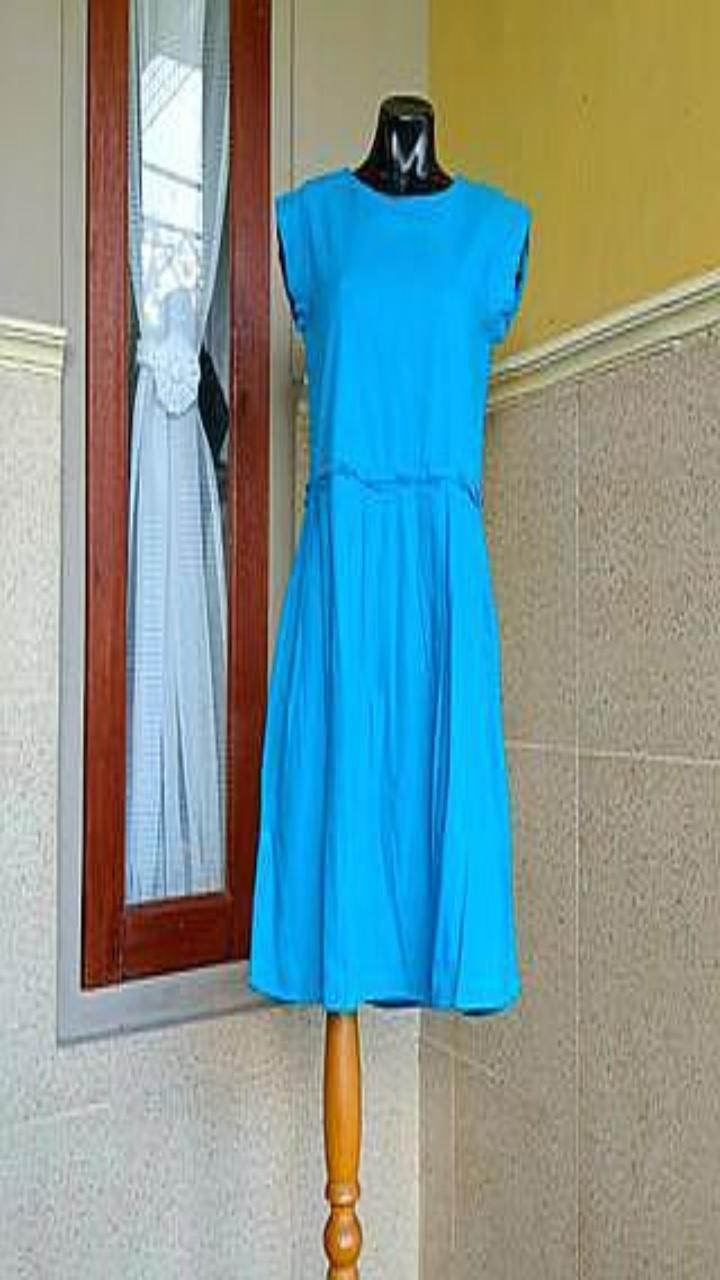Dresses: (249, 168, 530, 1012)
